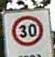limite 30: (10, 14, 44, 46)
